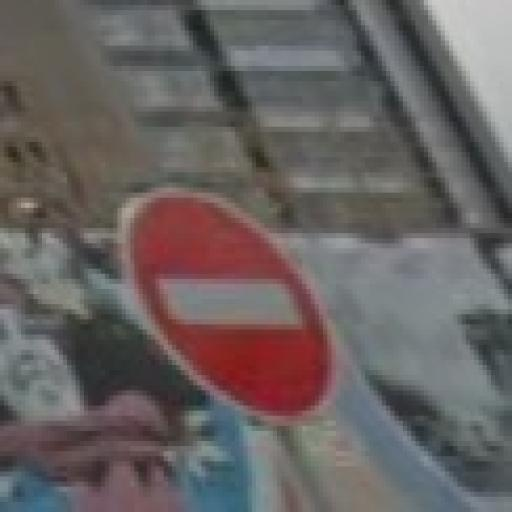traffic_sign: (123, 188, 345, 427)
